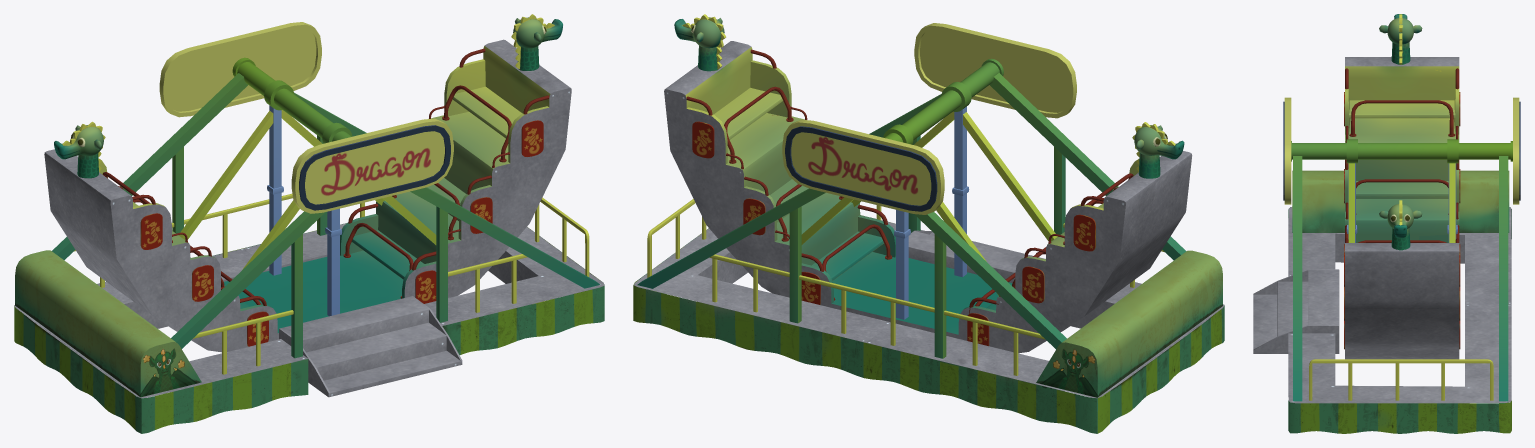
Rendered from MSH_JuegoMec_Dragon.fbx.
3 renders of one model, left to right at view 1: azimuth 30°, elevation 25°; view 2: azimuth 150°, elevation 25°; view 3: azimuth 270°, elevation 25°, orthographic. The views are drawn at different scales.
Visible parts, largest first — view 1: Cylinder001, Object002, MSH_Dragon_Metales; view 2: Cylinder001, Object002, MSH_Dragon_Metales; view 3: Object002, Cylinder001, MSH_Dragon_Metales.
Part boxes in pixels (x1,y1,x2,y2): Cylinder001: (14,14,604,433); Object002: (14,39,604,398); MSH_Dragon_Metales: (52,48,600,374); Cylinder001: (633,14,1224,433); Object002: (634,41,1224,398); MSH_Dragon_Metales: (637,49,1186,379); Object002: (1253,57,1511,403); Cylinder001: (1284,14,1519,433); MSH_Dragon_Metales: (1283,68,1520,403).
Size of the model in its own units: 494 by 245 by 262.
